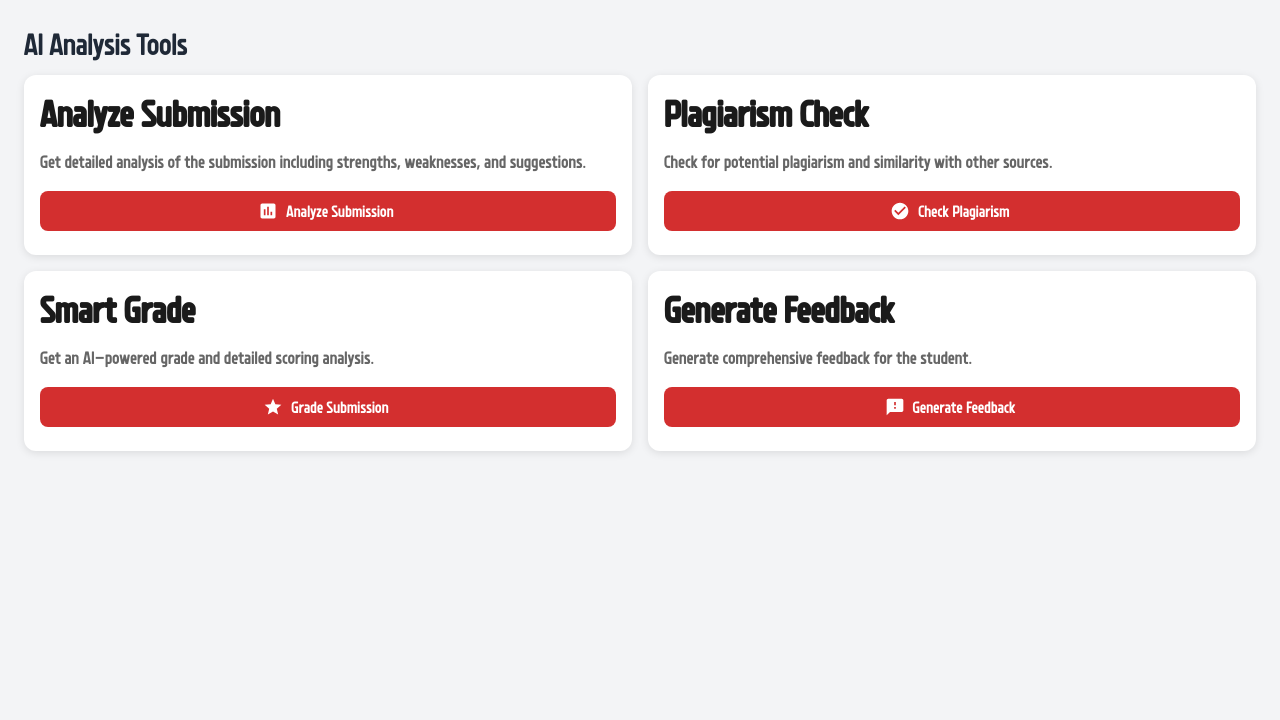
AIAnalysisPanel › handles API errors gracefully
Click the button "Analyze Submission".
click(328, 211)  # box [40,191,616,231]
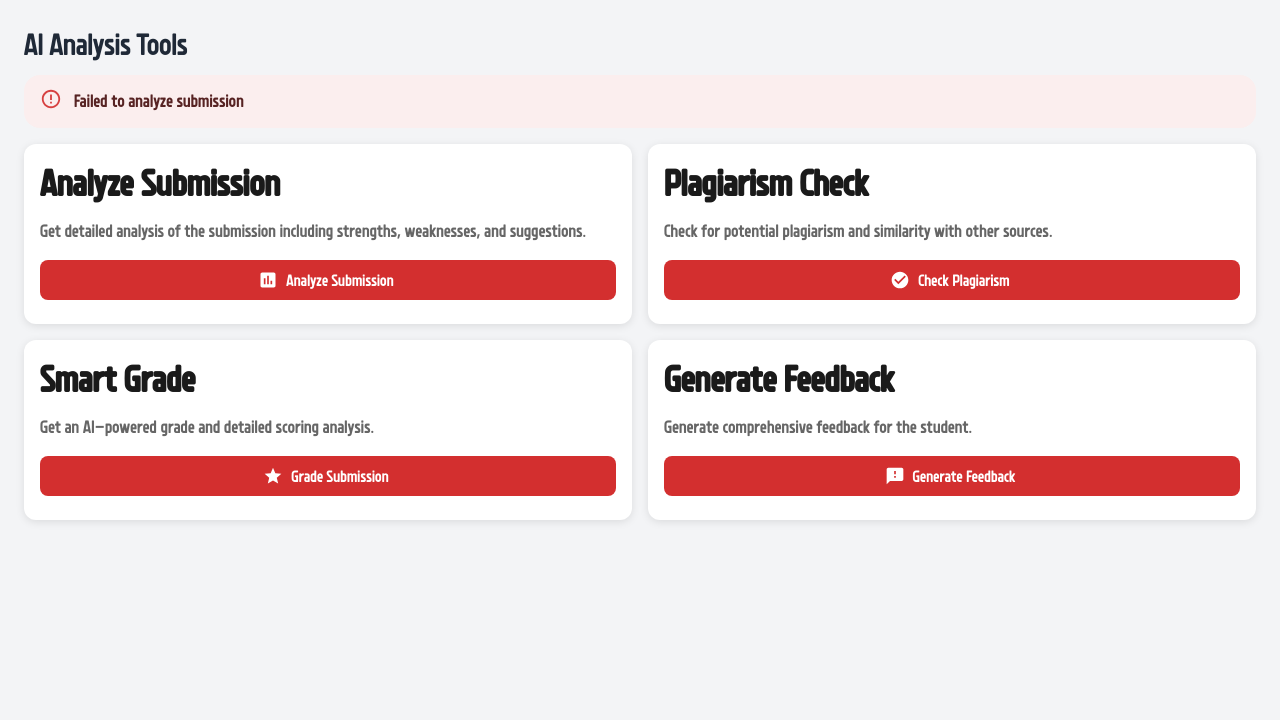
Expected: the text "Failed to analyze submission" is shown, [74,90,244,110]
